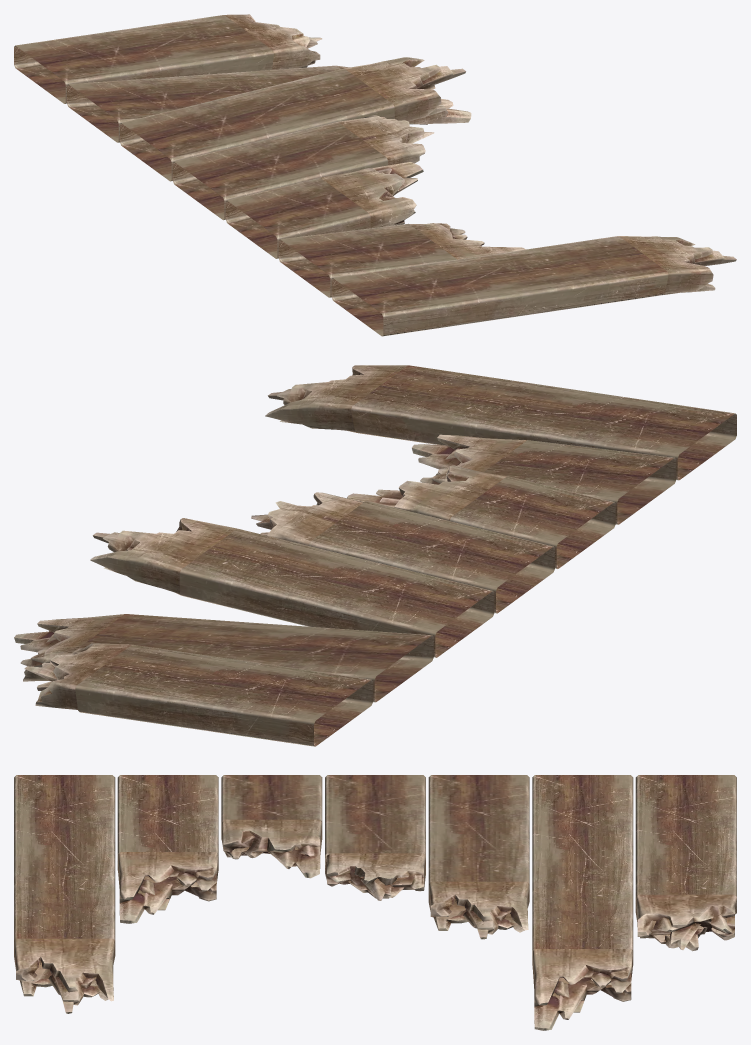
3 renders of one model, top to bottom at view 1: azimuth 30°, elevation 25°; view 2: azimuth 150°, elevation 25°; view 3: azimuth 270°, elevation 25°, orthographic. The views are drawn at different scales.
Parts seen in each view (by area): view 1: SM_BrokenWood_03_LOD0; view 2: SM_BrokenWood_03_LOD0; view 3: SM_BrokenWood_03_LOD0.
Boxes of the visible parts, box(x1,y1,x2,y2) form: SM_BrokenWood_03_LOD0: box(14, 14, 736, 336); SM_BrokenWood_03_LOD0: box(14, 365, 736, 746); SM_BrokenWood_03_LOD0: box(14, 775, 736, 1030).
Bounding box in the file's own units: 2.35 × 0.5207 × 3.95.
Materials: 1 (1 with a texture image).
